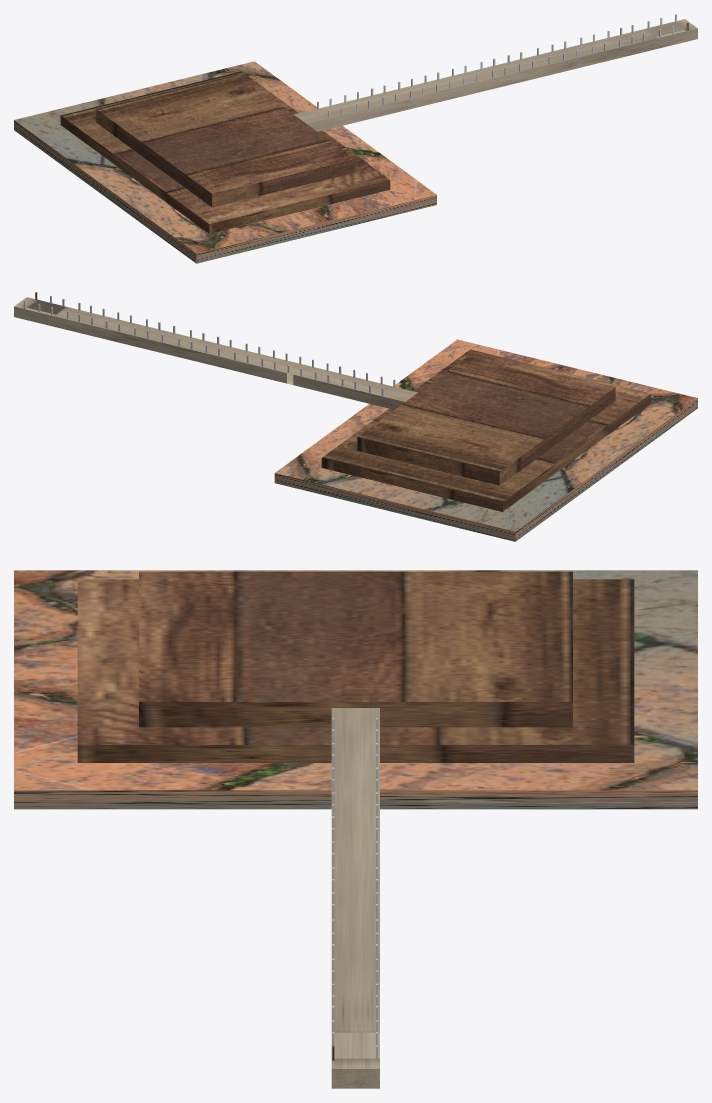
Rendered from stairs.obj.
3 renders of one model, top to bottom at view 1: azimuth 30°, elevation 25°; view 2: azimuth 150°, elevation 25°; view 3: azimuth 270°, elevation 25°, orthographic. The views are drawn at different scales.
Parts seen in each view (by area): view 1: Cube.043, Cube.042_Cube.045, Cube.002_Cube.044, Cube.044_Cube.046; view 2: Cube.043, Cube.042_Cube.045, Cube.002_Cube.044, Cube.044_Cube.046; view 3: Cube.043, Cube.042_Cube.045, Cube.002_Cube.044, Cube.044_Cube.046.
Boxes of the visible parts, left/top/right/bottom form: Cube.043: left=96, top=74, right=354, bottom=207; Cube.042_Cube.045: left=14, top=61, right=436, bottom=263; Cube.002_Cube.044: left=60, top=71, right=390, bottom=233; Cube.044_Cube.046: left=294, top=19, right=697, bottom=131; Cube.043: left=357, top=352, right=615, bottom=485; Cube.042_Cube.045: left=274, top=339, right=697, bottom=541; Cube.002_Cube.044: left=321, top=349, right=651, bottom=511; Cube.044_Cube.046: left=14, top=297, right=417, bottom=409; Cube.043: left=139, top=571, right=572, bottom=727; Cube.042_Cube.045: left=14, top=570, right=697, bottom=809; Cube.002_Cube.044: left=77, top=579, right=634, bottom=762; Cube.044_Cube.046: left=331, top=708, right=379, bottom=1088.
Size of the model in its own units: 52.47 by 3.22 by 28.29.
Materials: 6 (5 with a texture image).
